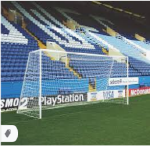goals: (16, 48, 131, 118)
